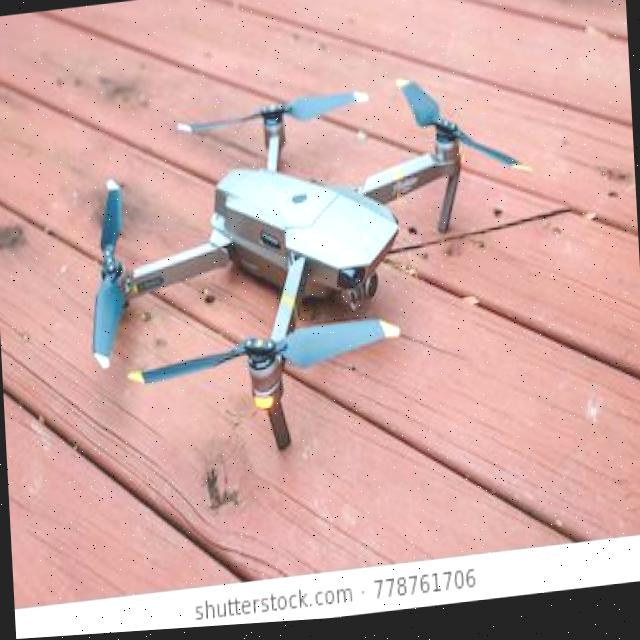drone: (44, 37, 572, 491)
